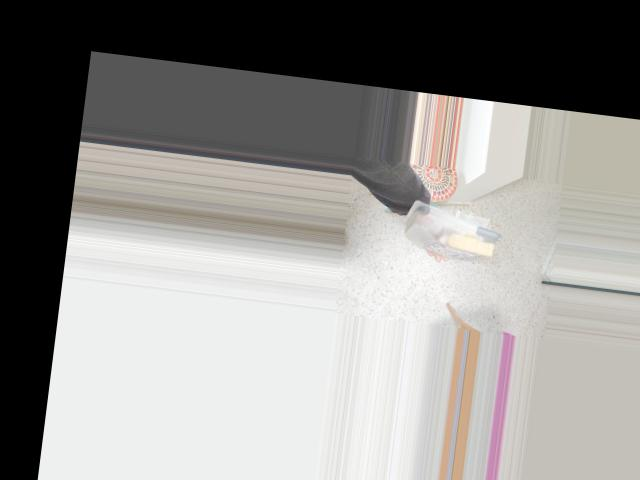cheese: (402, 196, 504, 266)
